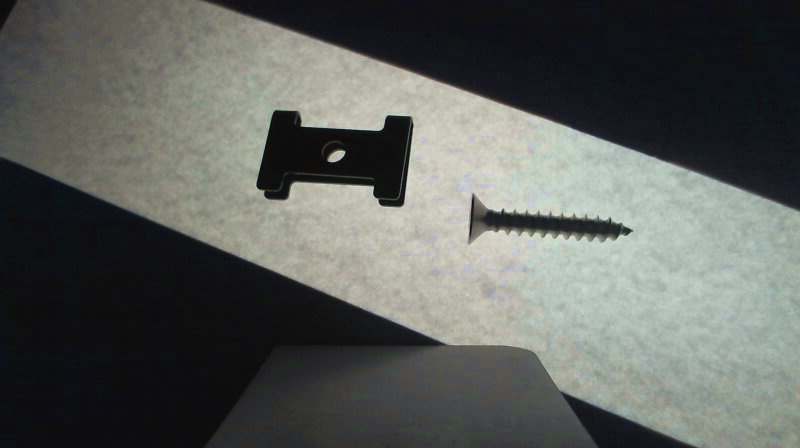O002: (253, 111, 420, 207)
S001: (464, 191, 634, 244)
